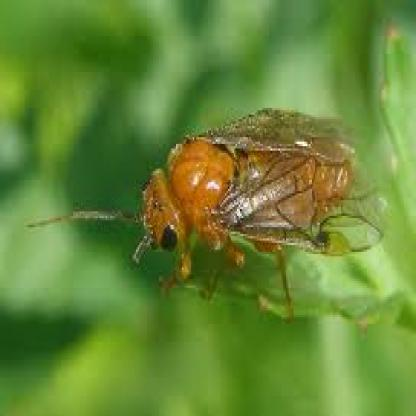sawfly: (36, 104, 392, 316)
